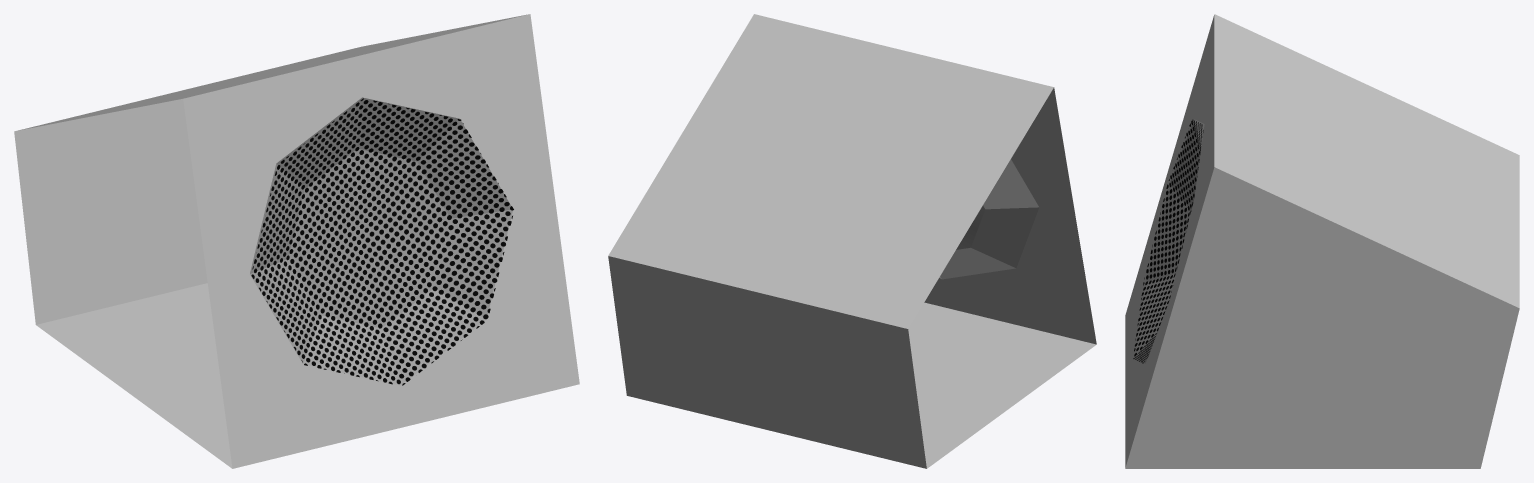
Rendered from Itr_Obj_Speaker2_Right_01.FBX.
3 views of the same model, side by side, from view 1: azimuth 30°, elevation 25°; view 2: azimuth 150°, elevation 25°; view 3: azimuth 270°, elevation 25° (orthographic). The views are drawn at different scales.
Visible parts, largest first — view 1: Itr_Obj_Speaker2_Right_01; view 2: Itr_Obj_Speaker2_Right_01; view 3: Itr_Obj_Speaker2_Right_01.
Boxes of the visible parts, <box> form: Itr_Obj_Speaker2_Right_01: <box>14,14,579,468</box>; Itr_Obj_Speaker2_Right_01: <box>608,14,1096,468</box>; Itr_Obj_Speaker2_Right_01: <box>1125,14,1519,468</box>.
Bounding box in the file's own units: 10.38 × 9.54 × 11.31.
